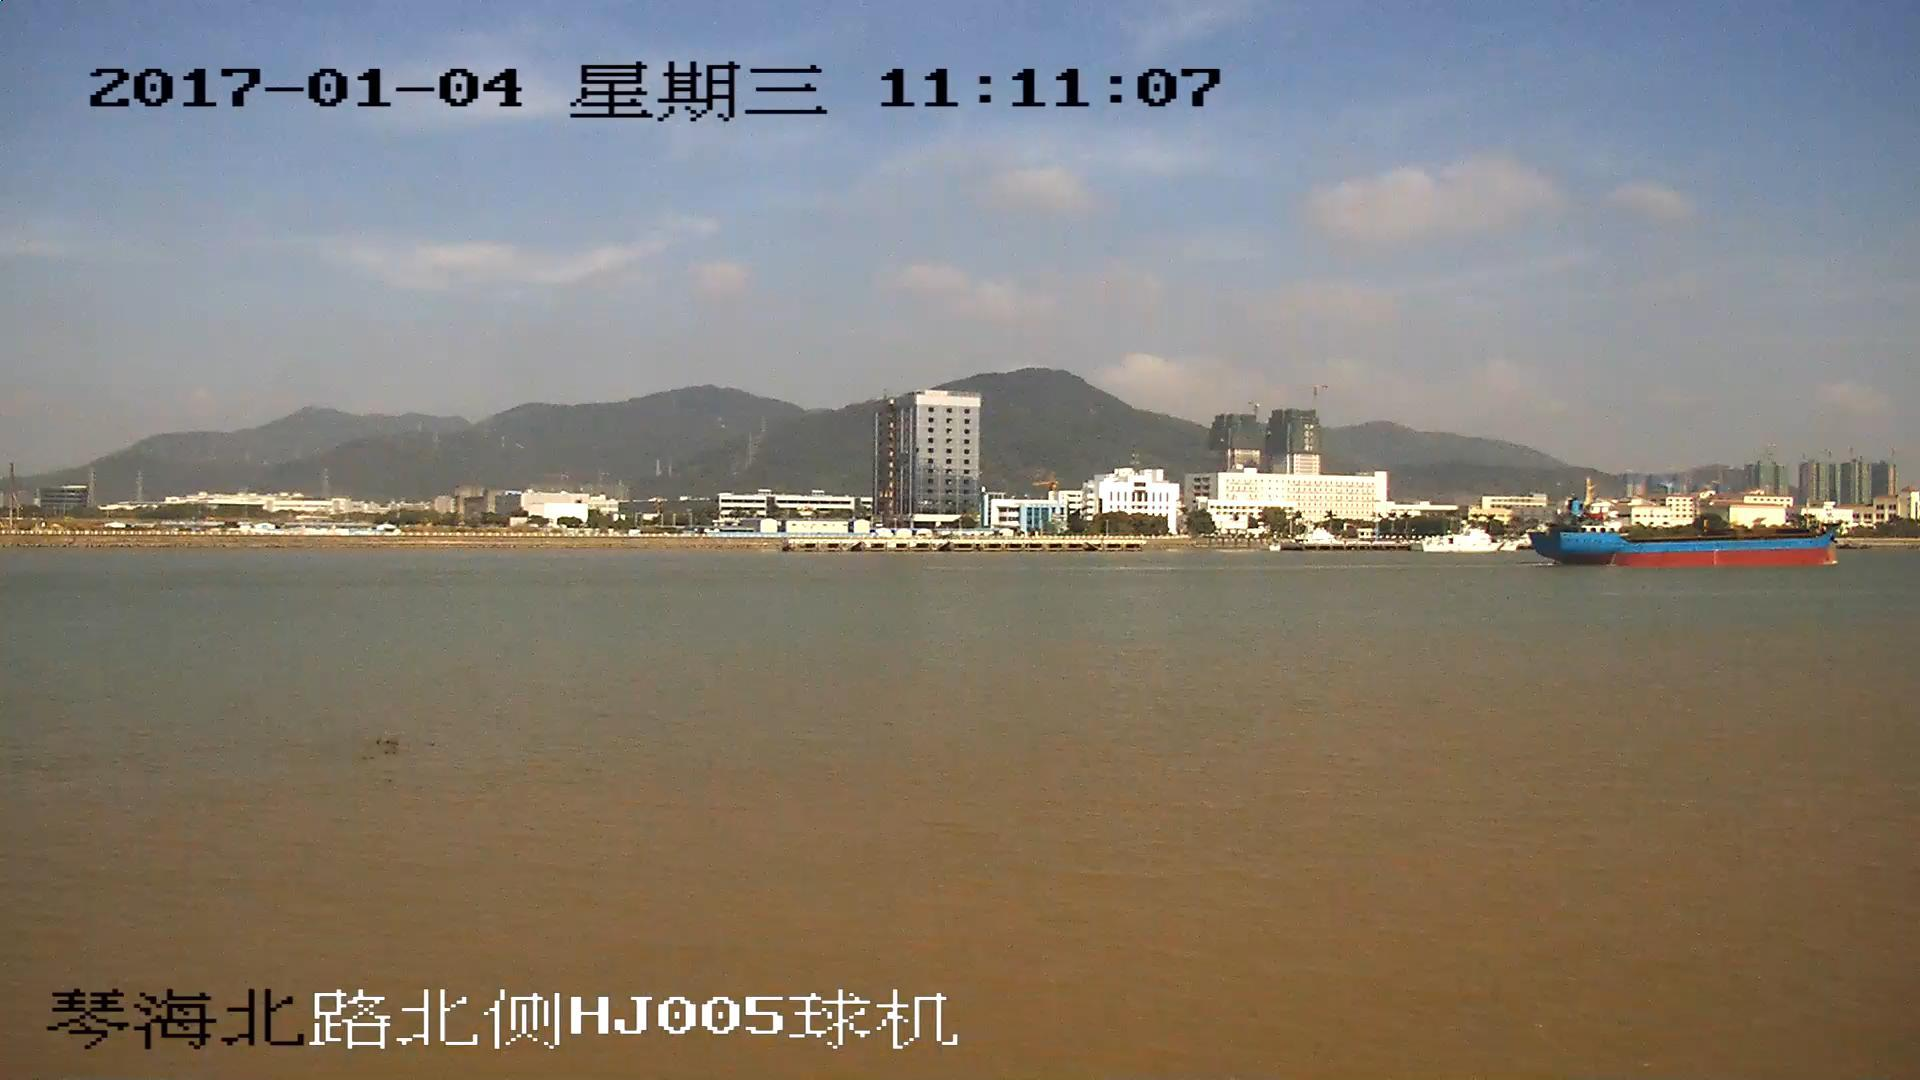Ship: (1530, 488, 1840, 568)
